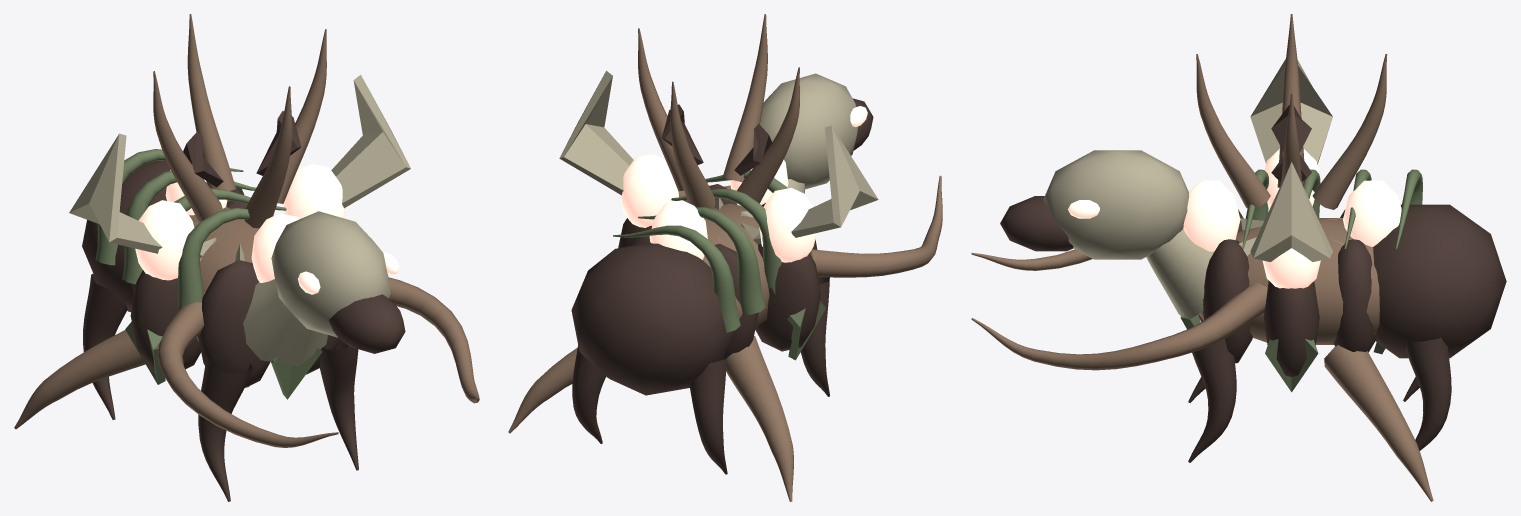
The model's file is thornmaw.glb.
The picture shows the model from 3 angles, left to right: view 1: azimuth 30°, elevation 25°; view 2: azimuth 150°, elevation 25°; view 3: azimuth 270°, elevation 25°; orthographic projection. The views are drawn at different scales.
Visible parts, largest first — view 1: Ear, Mobility frill, Crown growth, Layered bark plate, Extended strike tendril, Enlarged spore sac, Upright leg, Upright leg.001, Upright leg.002, EnemyCore, Older leaf; view 2: Ear, Mobility frill, Crown growth, Enlarged spore sac, Layered bark plate, Extended strike tendril, Upright leg.002, Upright leg.003, EnemyCore, Upright leg, Older leaf; view 3: Ear, Mobility frill, Layered bark plate, Enlarged spore sac, Crown growth, Extended strike tendril, EnemyCore, Upright leg.003, Upright leg.001, Older leaf.
Boxes of the visible parts, x1,y1,x2,y2 form: Ear: (82,111,405,366); Mobility frill: (14,75,410,429); Crown growth: (153,14,326,228); Layered bark plate: (130,200,340,388); Extended strike tendril: (157,277,479,447); Enlarged spore sac: (135,164,345,282); Upright leg: (198,356,252,501); Upright leg.001: (319,340,358,470); Upright leg.002: (83,273,127,419); EnemyCore: (189,207,259,341); Older leaf: (125,321,322,399); Ear: (571,73,873,395); Mobility frill: (508,70,878,501); Crown growth: (638,14,799,208); Enlarged spore sac: (621,154,816,262); Layered bark plate: (618,184,820,357); Extended strike tendril: (678,175,942,277); Upright leg.002: (689,354,727,474); Upright leg.003: (572,345,605,443); EnemyCore: (703,203,769,326); Upright leg: (800,277,829,396); Older leaf: (787,301,825,360); Ear: (1000,105,1506,358); Mobility frill: (1250,59,1433,501); Layered bark plate: (1203,209,1376,377); Enlarged spore sac: (1183,148,1401,288); Crown growth: (1196,14,1387,209); Extended strike tendril: (971,249,1267,370); EnemyCore: (1199,218,1379,344); Upright leg.003: (1405,337,1451,450); Upright leg.001: (1188,338,1236,462); Older leaf: (1180,311,1385,392).
Bounding box in the file's own units: 1.31 × 1.63 × 2.09.
